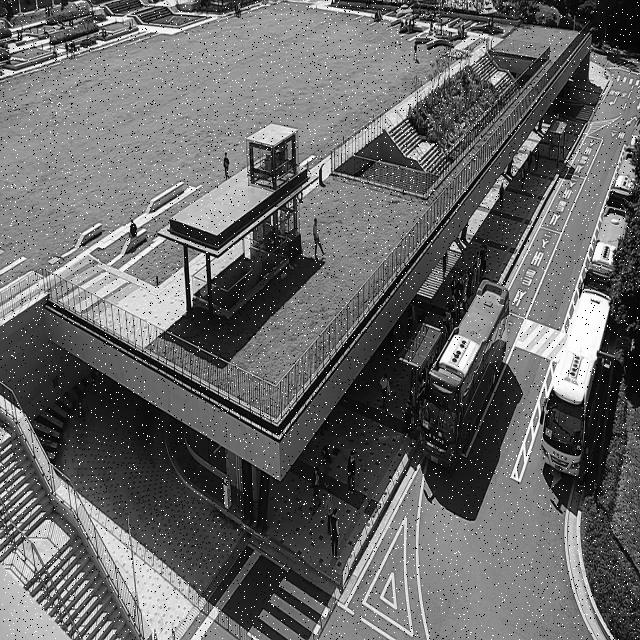queue: (412, 240, 488, 441)
